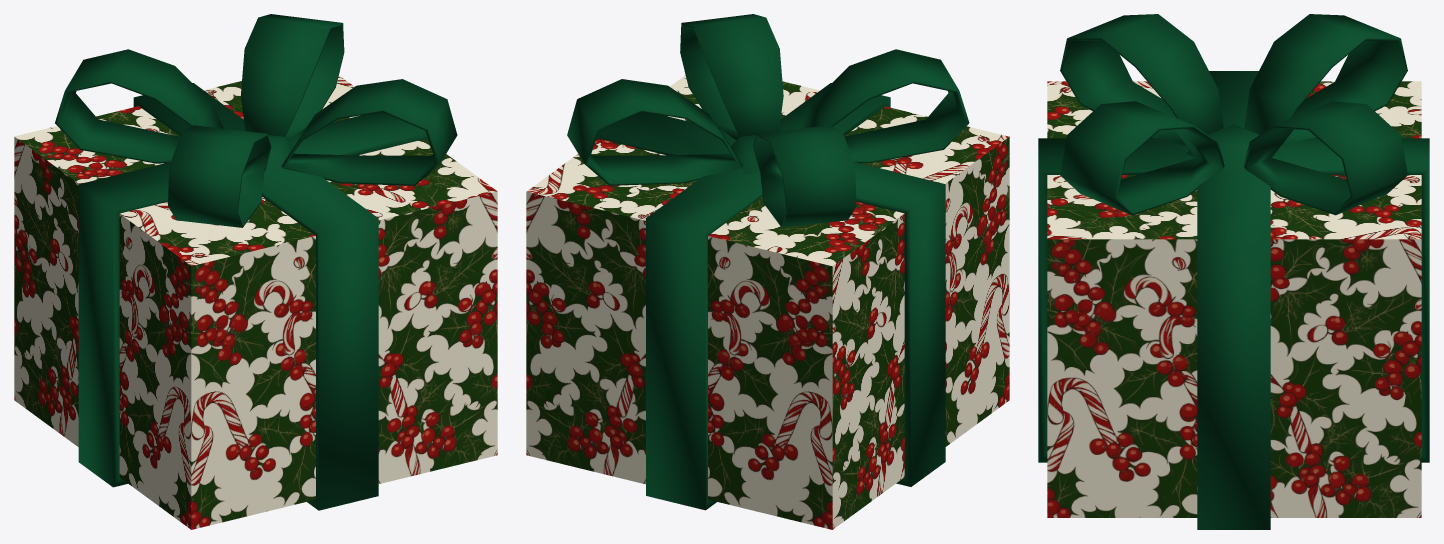
Rendered from giftBigWhite1.glb.
3 views of the same model, side by side, from view 1: azimuth 30°, elevation 25°; view 2: azimuth 150°, elevation 25°; view 3: azimuth 270°, elevation 25° (orthographic). The views are drawn at different scales.
Parts seen in each view (by area): view 1: GiftBigWhite1; view 2: GiftBigWhite1; view 3: GiftBigWhite1.
Boxes of the visible parts, bbox=[...] form: GiftBigWhite1: bbox=[14, 14, 497, 529]; GiftBigWhite1: bbox=[526, 14, 1009, 529]; GiftBigWhite1: bbox=[1038, 14, 1429, 529].
Size of what is drawn, in the model's own units: 0.9149 by 0.9717 by 0.9149.
2 materials, 2 textured.
